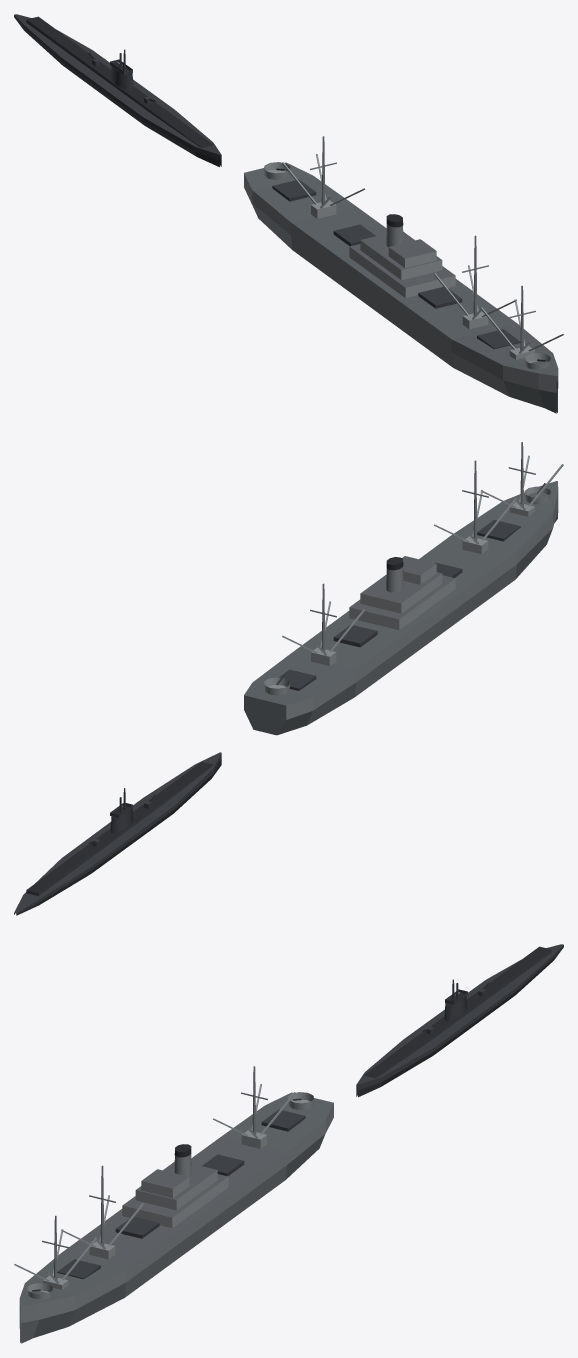
File: pier_45_ships.glb
3 views of the same model, one above another, from view 1: azimuth 30°, elevation 25°; view 2: azimuth 150°, elevation 25°; view 3: azimuth 330°, elevation 25° (orthographic).
Parts seen in each view (by area): view 1: pier_45_ships; view 2: pier_45_ships; view 3: pier_45_ships.
Boxes of the visible parts, bbox=[...] form: pier_45_ships: bbox=[14, 14, 563, 413]; pier_45_ships: bbox=[14, 442, 563, 915]; pier_45_ships: bbox=[14, 944, 563, 1343].
Bounding box in the file's own units: 17.49 × 30 × 250.
1 material, 1 textured.
